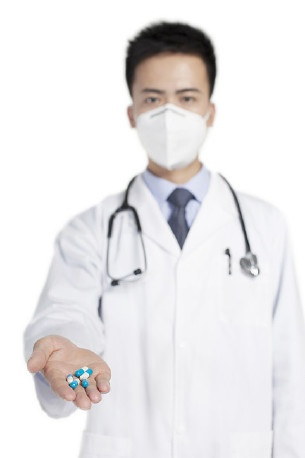Mask: (128, 85, 211, 168)
